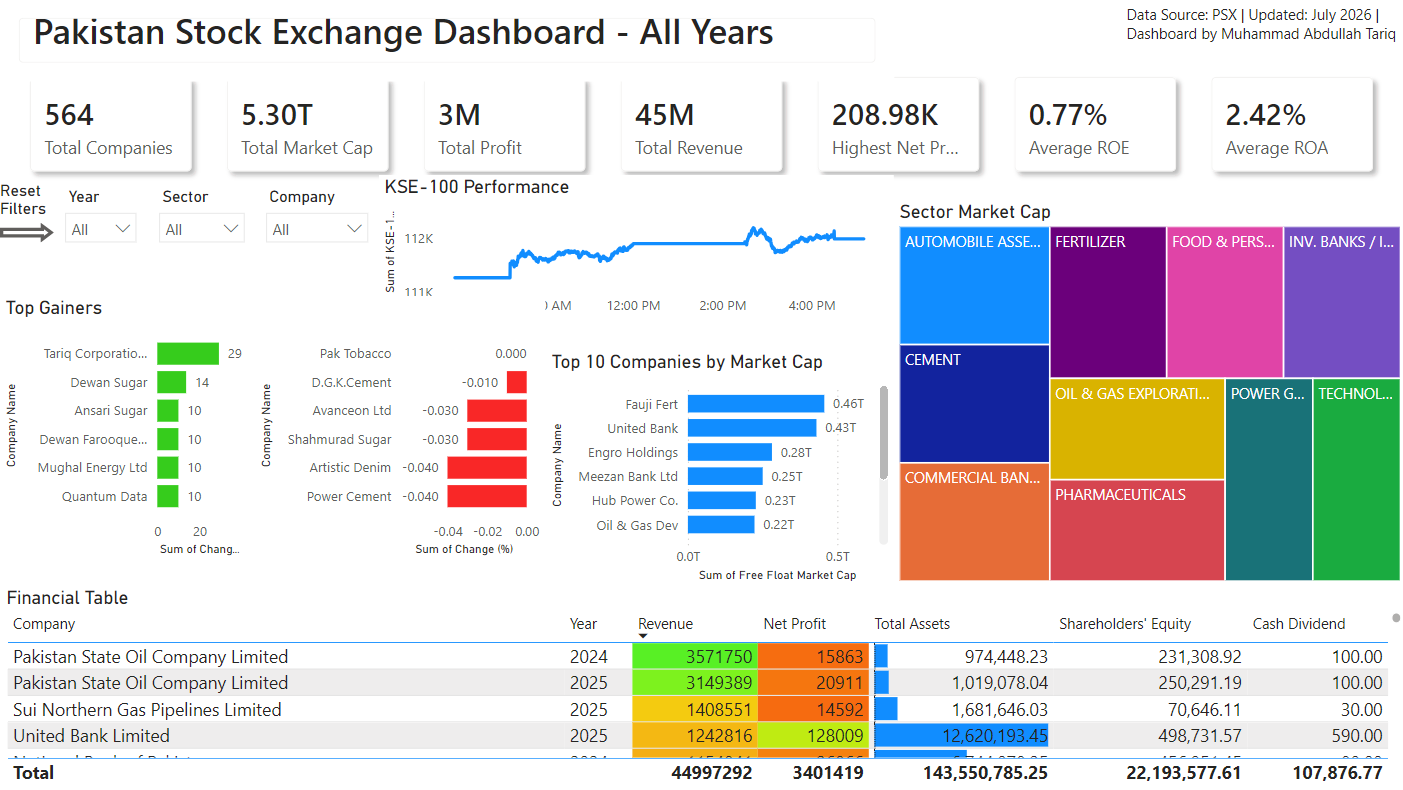

What the dashboard file says about the page in this screenshot:
{"tool":"powerbi","page":{"name":"Executive Dashboard","canvas":[1280,720],"ordinal":0},"visuals":[{"type":"cardVisual","fields":{"Data":["Measure.Total Companies","Measure.Total Market Cap","Measure.Total Profit","Measure.Total Revenue","Measure.Highest Profit","Measure.Average ROE","DimCompany.Average ROA"]},"box":[0,42,1280,144],"z":0},{"type":"lineChart","title":"KSE-100 Performance","fields":{"Category":["FactKSEIndex.Time"],"Y":["Sum(FactKSEIndex.KSE-100 Index)"]},"box":[346.8,159.7,467.7,136.9],"z":1000},{"type":"treemap","title":"Sector Market Cap","fields":{"Group":["FactSectorMarket.Sector"],"Values":["CountNonNull(FactSectorMarket.Market Capitalisation)"]},"box":[814.5,182.5,465.5,351.4],"z":2000},{"type":"clusteredBarChart","title":"Top 10 Companies by Market Cap","fields":{"Category":["FactKSE100.Company Name"],"Y":["Sum(FactKSE100.Free Float Market Cap)"]},"box":[498,319,316,215],"z":3000},{"type":"clusteredBarChart","title":"Top Gainers","fields":{"Y":["Sum(FactTopGainers.Change (%))"],"Category":["FactTopGainers.Company Name"]},"box":[2,270,232,241],"z":4000},{"type":"clusteredBarChart","title":"Top Losers","fields":{"Category":["FactTopLosers.Company Name"],"Y":["Sum(FactTopLosers.Change (%))"]},"box":[234,270,264,241],"z":5000},{"type":"tableEx","title":"Financial Table","fields":{"Values":["FactFinancials.Name of Company","FactFinancials.Year","Measure.Total Revenue","Measure.Total Profit","Sum(FactFinancials.Total Assets)","Sum(FactFinancials.Shareholders' Equity)","Sum(FactFinancials.Cash Dividend)"]},"box":[2.3,533.9,1278,184.8],"z":6000},{"type":"slicer","fields":{"Values":["FactFinancials.Year"]},"box":[51,166,85,104],"z":7000},{"type":"slicer","fields":{"Values":["DimCompany.Sector"]},"box":[136,166,98,72],"z":8000},{"type":"cardVisual","fields":{"Data":["Measure.Dashboard Title"]},"box":[2,0,813,75],"z":9000},{"type":"textbox","box":[1020.9,0,259.1,68.2],"z":10000},{"type":"actionButton","title":"Reset Filters","box":[2,166,49,55],"z":11000},{"type":"slicer","fields":{"Values":["FactFinancials.Name of Company"]},"box":[234,166,113,139],"z":12000}]}

Visuals, with their boxes in screenshot pixels (x1, y1, x2, y2), scaled from the page's 1280x720 canvas onto the 1403x790 screenshot:
cardVisual - Measure.Total Companies x Measure.Total Market Cap: (0, 46, 1402, 204)
"KSE-100 Performance" lineChart: (380, 175, 893, 325)
"Sector Market Cap" treemap: (893, 200, 1402, 586)
"Top 10 Companies by Market Cap" clusteredBarChart: (546, 350, 892, 586)
"Top Gainers" clusteredBarChart: (2, 296, 256, 561)
"Top Losers" clusteredBarChart: (256, 296, 546, 561)
"Financial Table" tableEx: (3, 586, 1402, 789)
slicer - FactFinancials.Year: (56, 182, 149, 296)
slicer - DimCompany.Sector: (149, 182, 256, 261)
cardVisual - Measure.Dashboard Title: (2, 0, 893, 82)
textbox: (1119, 0, 1402, 75)
"Reset Filters" actionButton: (2, 182, 56, 242)
slicer - FactFinancials.Name of Company: (256, 182, 380, 335)
